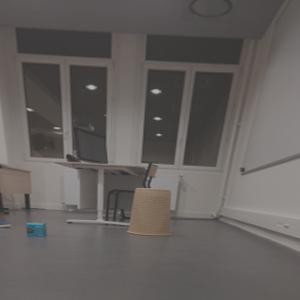medium: (125, 186, 174, 236)
small: (26, 222, 47, 238)
